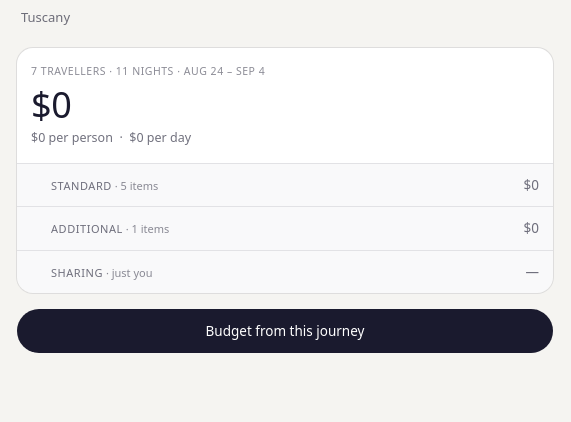
it: Budget saves as you go › folds the split rows under Sharing, with labels that fit a phone
Click the text "Sharing": (77,272) [51,264,152,280]
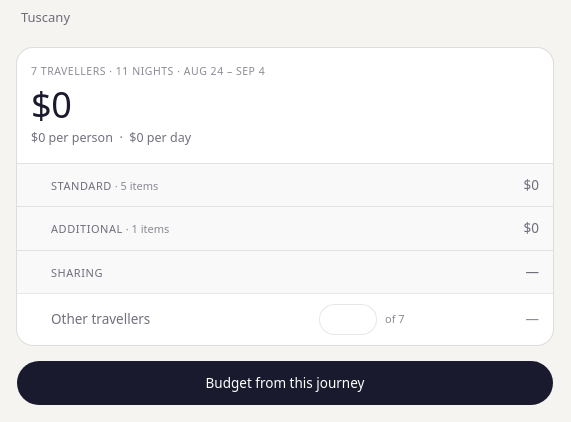
Now the text "Other travellers" is shown, box [51,310,150,328]
